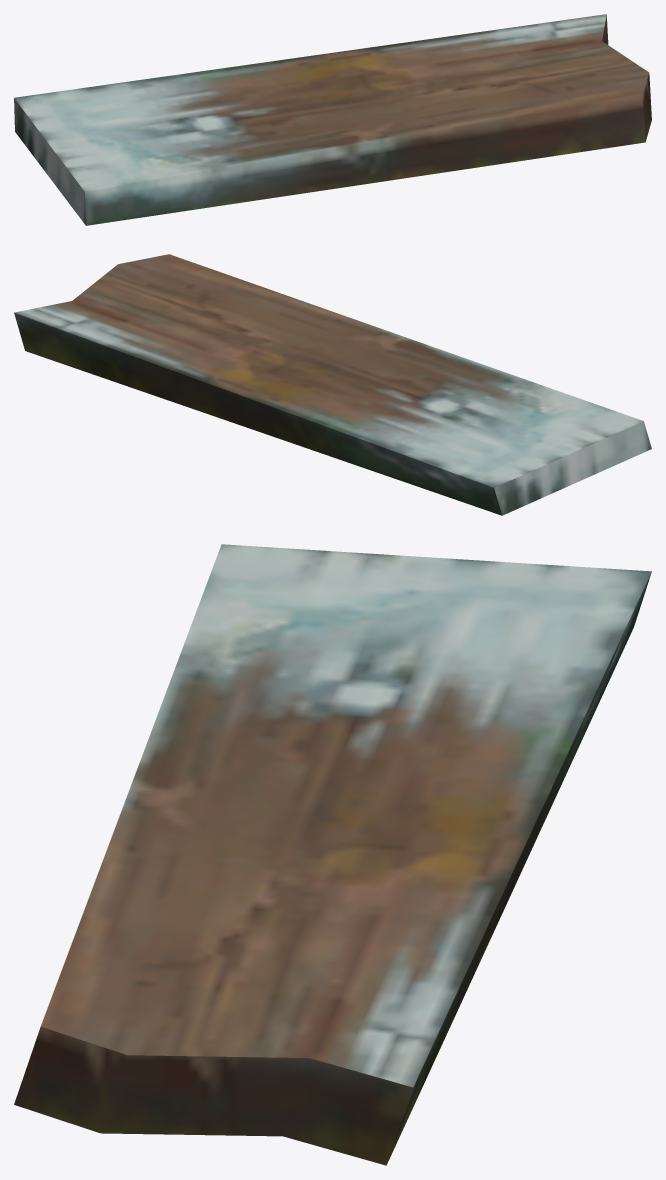
Rendered from common_yewai_shourenmuban02.FBX.
The picture shows the model from 3 angles, top to bottom: view 1: azimuth 30°, elevation 25°; view 2: azimuth 150°, elevation 25°; view 3: azimuth 270°, elevation 25°; orthographic projection. The views are drawn at different scales.
Visible parts, largest first — view 1: common_yewai_shourenmuban02; view 2: common_yewai_shourenmuban02; view 3: common_yewai_shourenmuban02.
Boxes of the visible parts, box(x1,y1,x2,y2) form: common_yewai_shourenmuban02: box(14, 14, 651, 225); common_yewai_shourenmuban02: box(14, 254, 651, 515); common_yewai_shourenmuban02: box(14, 544, 651, 1165).
Bounding box in the file's own units: 7.84 × 3.83 × 0.5796.
